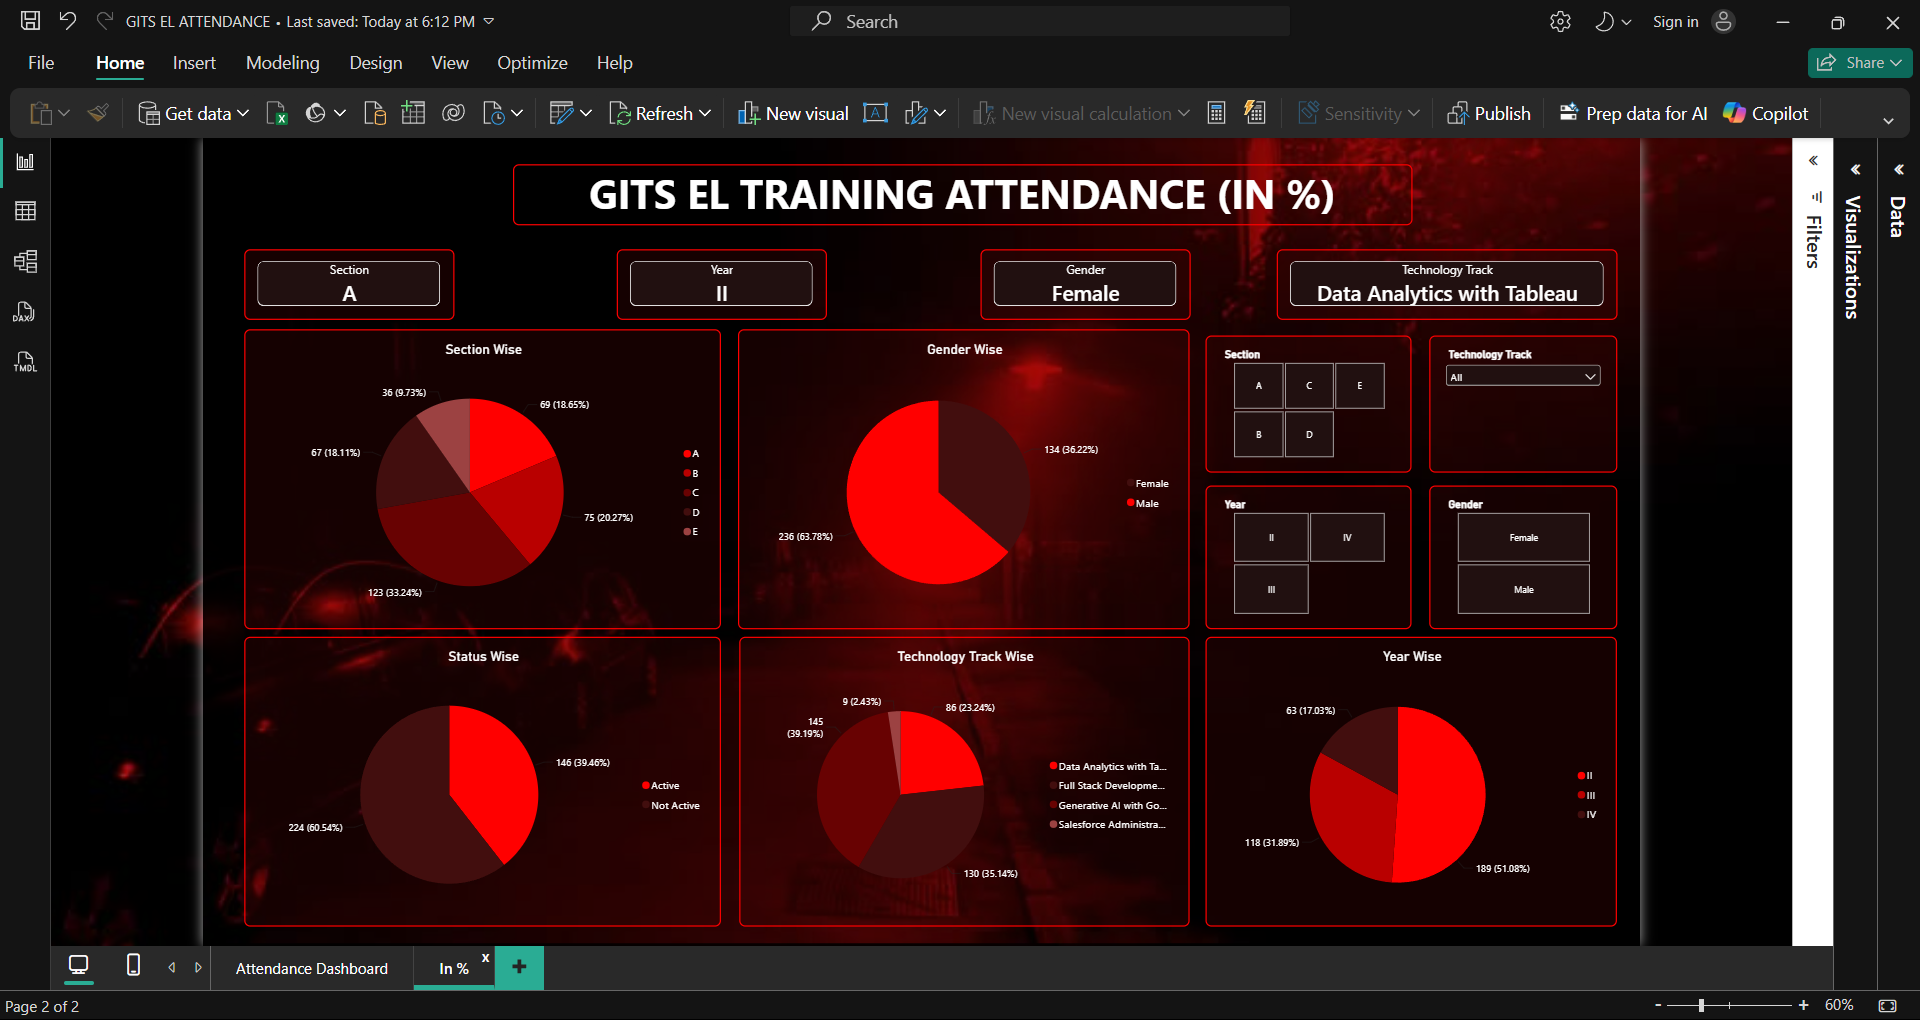

The page's visual inventory and layout, read from the dashboard file:
{"tool":"powerbi","page":{"name":"In %","canvas":[1920,1080],"ordinal":1},"visuals":[{"type":"cardVisual","fields":{"Data":["Min(Attendance Total Sheet.Section)"]},"box":[55.8,148.3,280.8,94.2],"z":0},{"type":"cardVisual","fields":{"Data":["Min(Attendance Total Sheet.Year)"]},"box":[552.9,148.3,280.8,94.2],"z":1},{"type":"cardVisual","fields":{"Data":["Min(Attendance Total Sheet.Gender)"]},"box":[1037.8,148.3,280.8,94.2],"z":2},{"type":"cardVisual","fields":{"Data":["Min(Attendance Total Sheet.Technology Track)"]},"box":[1433.7,148.3,455.2,94.2],"z":3},{"type":"pieChart","title":"Section Wise","fields":{"Category":["Attendance Total Sheet.Section"],"Y":["CountNonNull(Attendance Total Sheet.Total in %)"]},"box":[55.8,254.7,636.6,401.2],"z":4},{"type":"pieChart","title":"Gender Wise","fields":{"Category":["Attendance Total Sheet.Gender"],"Y":["CountNonNull(Attendance Total Sheet.Total in %)"]},"box":[715.1,254.7,603.5,401.2],"z":5},{"type":"pieChart","title":"Status Wise","fields":{"Series":["Attendance Total Sheet.Status"],"Y":["CountNonNull(Attendance Total Sheet.Total in %)"]},"box":[55.8,666.3,636.6,387.2],"z":6},{"type":"pieChart","title":"Technology Track Wise","fields":{"Category":["Attendance Total Sheet.Technology Track"],"Y":["CountNonNull(Attendance Total Sheet.Total in %)"]},"box":[716.9,666.3,601.7,387.2],"z":7},{"type":"pieChart","title":"Year Wise","fields":{"Category":["Attendance Total Sheet.Year"],"Y":["CountNonNull(Attendance Total Sheet.Total in %)"]},"box":[1339.5,666.3,549.4,387.2],"z":8},{"type":"slicer","fields":{"Values":["Attendance Total Sheet.Technology Track"]},"box":[1637.8,263.4,251.2,183.1],"z":9},{"type":"slicer","fields":{"Values":["Attendance Total Sheet.Section"]},"box":[1339.5,263.4,275.6,183.1],"z":10},{"type":"slicer","fields":{"Values":["Attendance Total Sheet.Year"]},"box":[1339.5,464,275.6,191.9],"z":11},{"type":"slicer","fields":{"Values":["Attendance Total Sheet.Gender"]},"box":[1637.8,464,251.2,191.9],"z":12},{"type":"textbox","box":[413.4,34.9,1201.7,82],"z":13}]}

Visuals, with their boxes on the page's 1920x1080 design canvas (x1, y1, x2, y2). These are canvas units, not pixel positions in the 1920x1020 screenshot, which may show the page scaled, cropped or inside an application window:
cardVisual - Min(Attendance Total Sheet.Section): select_region(56, 148, 337, 242)
cardVisual - Min(Attendance Total Sheet.Year): select_region(553, 148, 834, 242)
cardVisual - Min(Attendance Total Sheet.Gender): select_region(1038, 148, 1319, 242)
cardVisual - Min(Attendance Total Sheet.Technology Track): select_region(1434, 148, 1889, 242)
"Section Wise" pieChart: select_region(56, 255, 692, 656)
"Gender Wise" pieChart: select_region(715, 255, 1319, 656)
"Status Wise" pieChart: select_region(56, 666, 692, 1054)
"Technology Track Wise" pieChart: select_region(717, 666, 1319, 1054)
"Year Wise" pieChart: select_region(1340, 666, 1889, 1054)
slicer - Attendance Total Sheet.Technology Track: select_region(1638, 263, 1889, 446)
slicer - Attendance Total Sheet.Section: select_region(1340, 263, 1615, 446)
slicer - Attendance Total Sheet.Year: select_region(1340, 464, 1615, 656)
slicer - Attendance Total Sheet.Gender: select_region(1638, 464, 1889, 656)
textbox: select_region(413, 35, 1615, 117)
